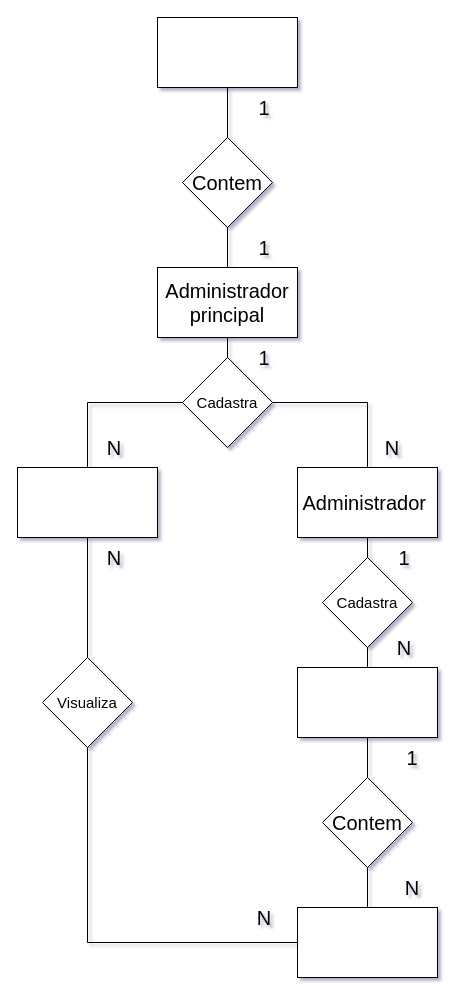
The diagram is 461 pixels wide and 1001 high, and some of its shapes have lost their labels. The centre of each missing label's shape, as x and y in pixels:
"Categoria" goes at (x=367, y=702).
"Cliente" goes at (x=87, y=502).
"Filmes" goes at (x=367, y=942).
"OpFlix" goes at (x=227, y=52).
